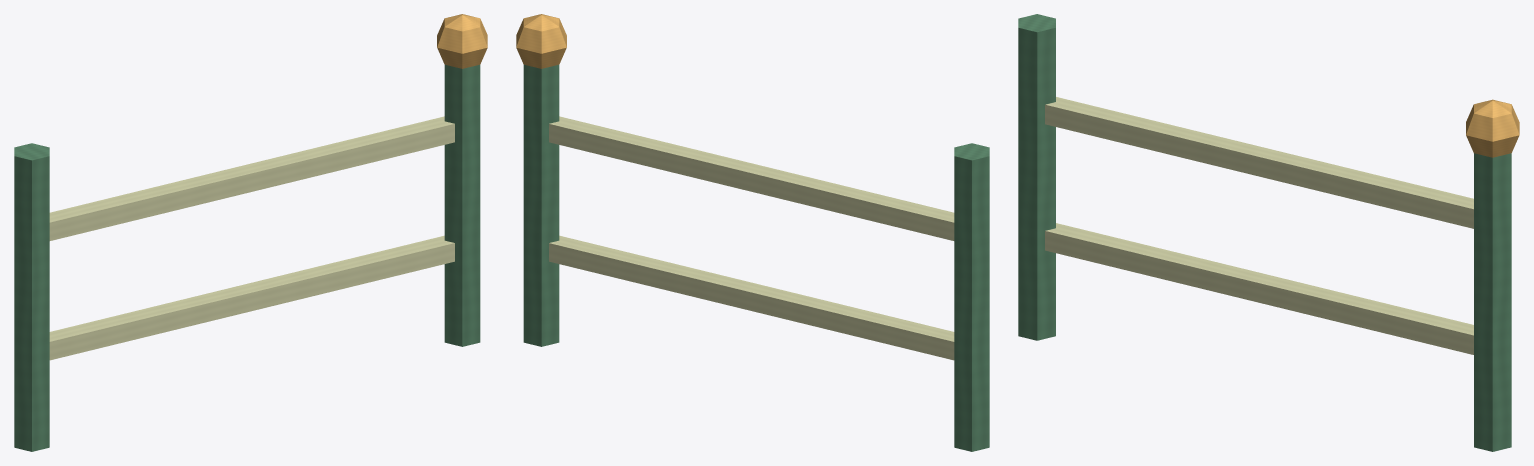
File: atlas100-solarpunk-util04.lod1.glb
The picture shows the model from 3 angles, left to right: view 1: azimuth 30°, elevation 25°; view 2: azimuth 150°, elevation 25°; view 3: azimuth 330°, elevation 25°; orthographic projection. The views are drawn at different scales.
Parts seen in each view (by area): view 1: atlas100-solarpunk-util04:part-005, atlas100-solarpunk-util04:part-004, atlas100-solarpunk-util04:part-000, atlas100-solarpunk-util04:part-002, atlas100-solarpunk-util04:part-003; view 2: atlas100-solarpunk-util04:part-005, atlas100-solarpunk-util04:part-004, atlas100-solarpunk-util04:part-000, atlas100-solarpunk-util04:part-002, atlas100-solarpunk-util04:part-003; view 3: atlas100-solarpunk-util04:part-004, atlas100-solarpunk-util04:part-005, atlas100-solarpunk-util04:part-000, atlas100-solarpunk-util04:part-002, atlas100-solarpunk-util04:part-003.
Part boxes in pixels (<box>): atlas100-solarpunk-util04:part-005: <box>49,116,454,240</box>; atlas100-solarpunk-util04:part-004: <box>49,235,454,360</box>; atlas100-solarpunk-util04:part-000: <box>14,143,49,451</box>; atlas100-solarpunk-util04:part-002: <box>444,64,480,346</box>; atlas100-solarpunk-util04:part-003: <box>437,14,487,68</box>; atlas100-solarpunk-util04:part-005: <box>549,116,954,240</box>; atlas100-solarpunk-util04:part-004: <box>549,235,954,360</box>; atlas100-solarpunk-util04:part-000: <box>954,143,989,451</box>; atlas100-solarpunk-util04:part-002: <box>523,64,559,346</box>; atlas100-solarpunk-util04:part-003: <box>516,14,566,68</box>; atlas100-solarpunk-util04:part-004: <box>1045,223,1473,354</box>; atlas100-solarpunk-util04:part-005: <box>1045,97,1473,228</box>; atlas100-solarpunk-util04:part-000: <box>1018,14,1055,340</box>; atlas100-solarpunk-util04:part-002: <box>1474,153,1511,451</box>; atlas100-solarpunk-util04:part-003: <box>1466,99,1519,157</box>.
Size of the model in its own units: 2 by 1.3 by 0.1852.
3 materials, 3 textured.
